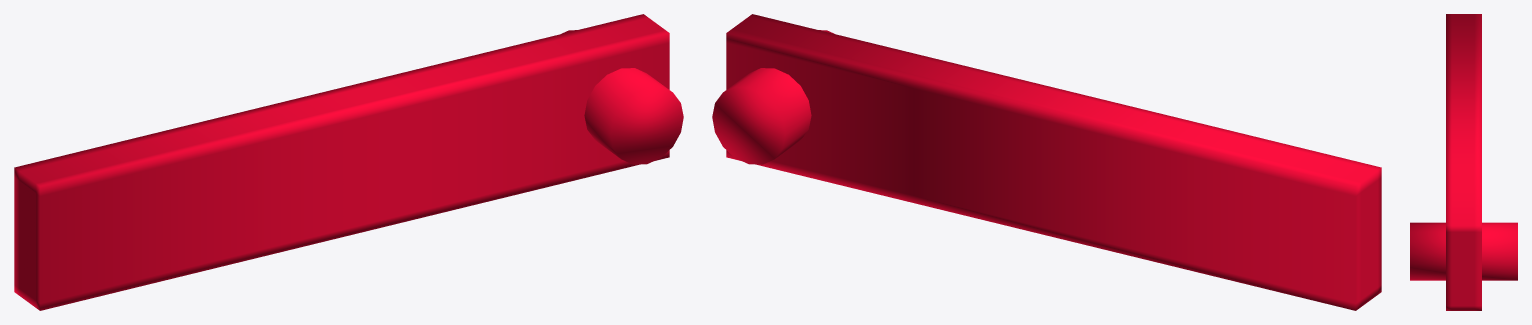
The model's file is gate.fbx.
The picture shows the model from 3 angles, left to right: view 1: azimuth 30°, elevation 25°; view 2: azimuth 150°, elevation 25°; view 3: azimuth 270°, elevation 25°; orthographic projection. The views are drawn at different scales.
Parts seen in each view (by area): view 1: Cube.007; view 2: Cube.007; view 3: Cube.007.
Boxes of the visible parts, x1,y1,x2,y2 form: Cube.007: [14, 14, 683, 310]; Cube.007: [712, 14, 1381, 310]; Cube.007: [1410, 14, 1517, 310].
Bounding box in the file's own units: 327 × 61.78 × 70.44.
